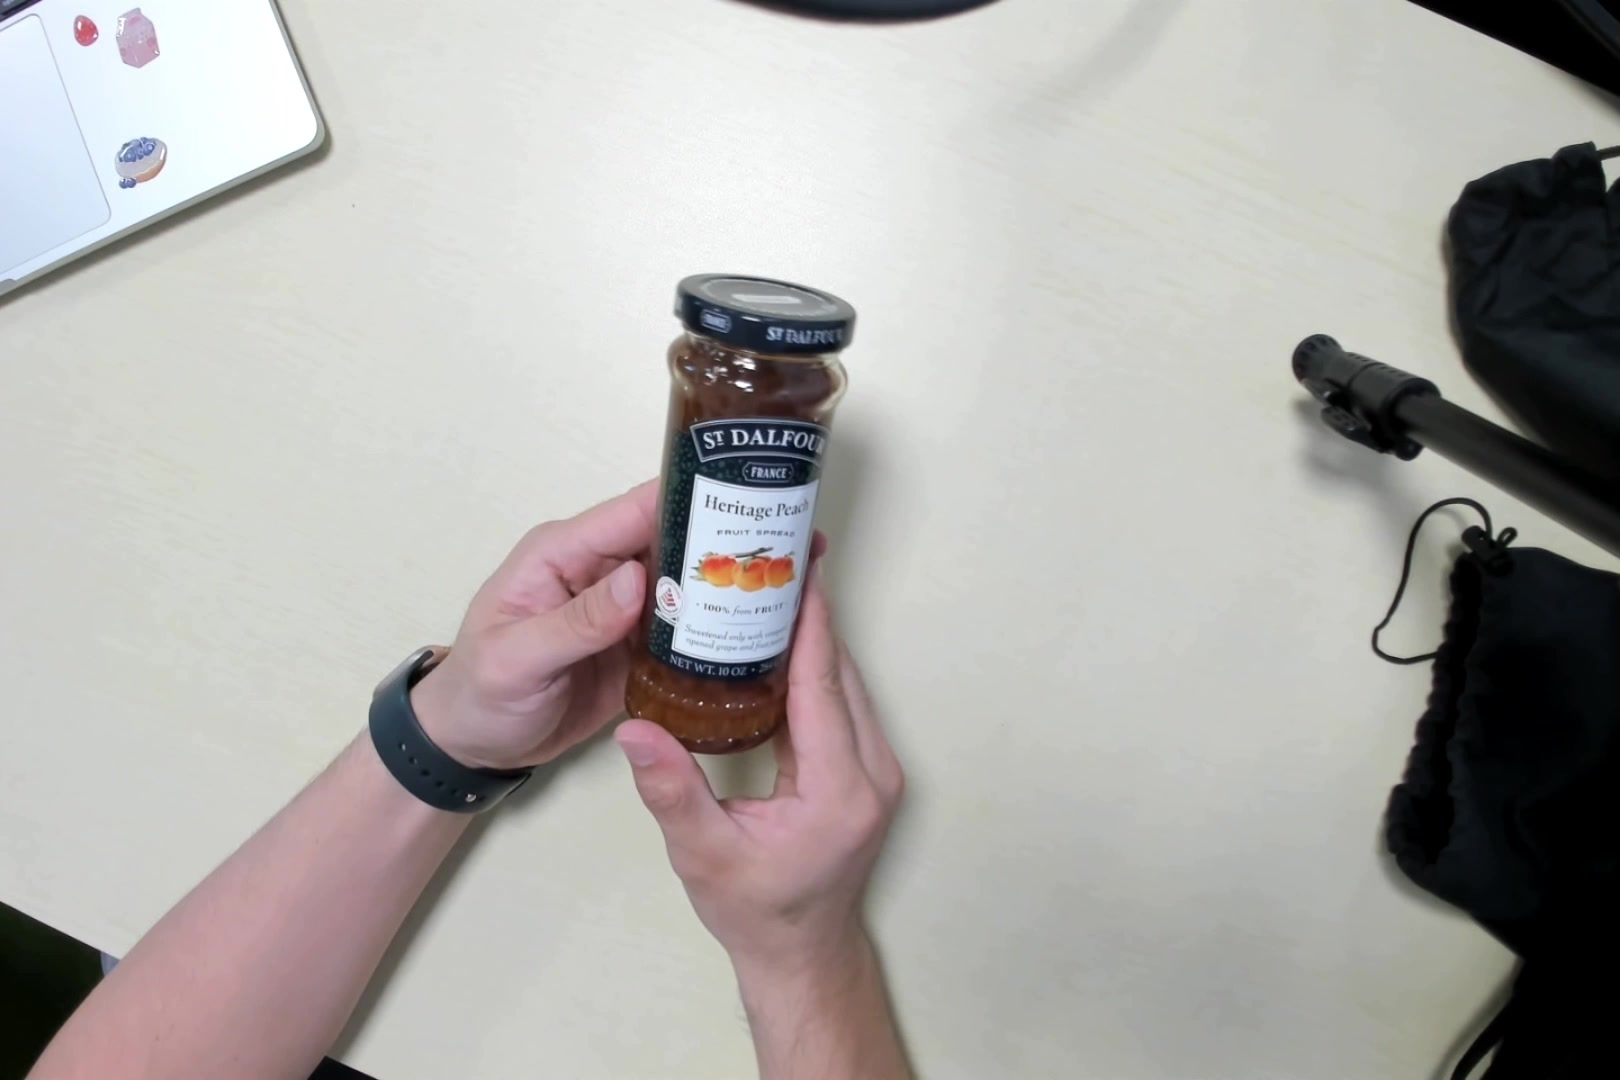Jam_200-299g_Halal_Healthy: (632, 269, 845, 747)
